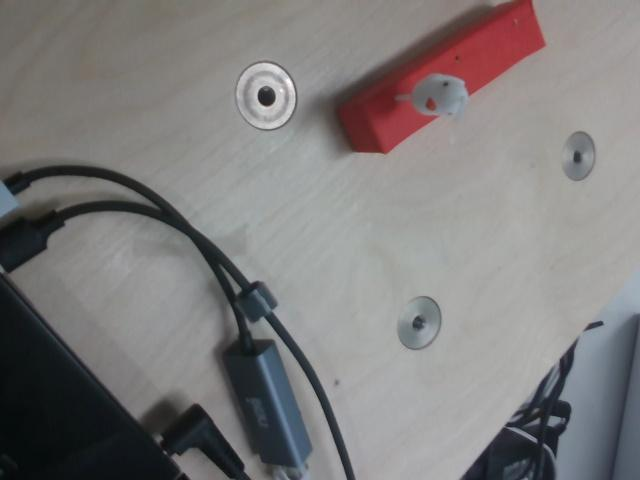w_duck: (414, 74, 470, 117)
